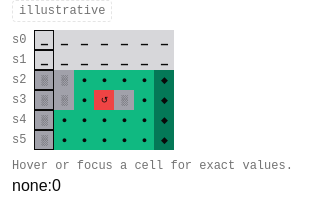
Test case: CommitHeatmap (DOM mode) › hover reveals the exact value in the readout
Hover over the button named "Slot s3, frame 1: masked" at (44,100), box [34,90,54,110]
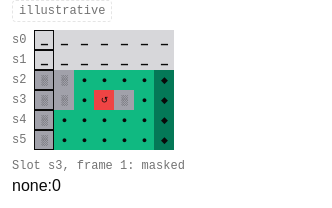
Expected: the text "Slot s3, frame 1: masked" is shown, [12,159,185,173]
